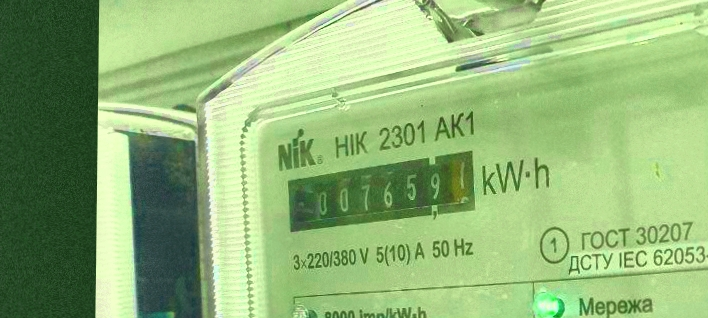0: (315, 187, 329, 215), (336, 185, 350, 213)
1: (455, 160, 467, 191)
5: (403, 171, 418, 203)
6: (380, 178, 394, 209)
7: (357, 180, 372, 212)
9: (427, 168, 442, 203)
screen: (272, 142, 494, 239)
